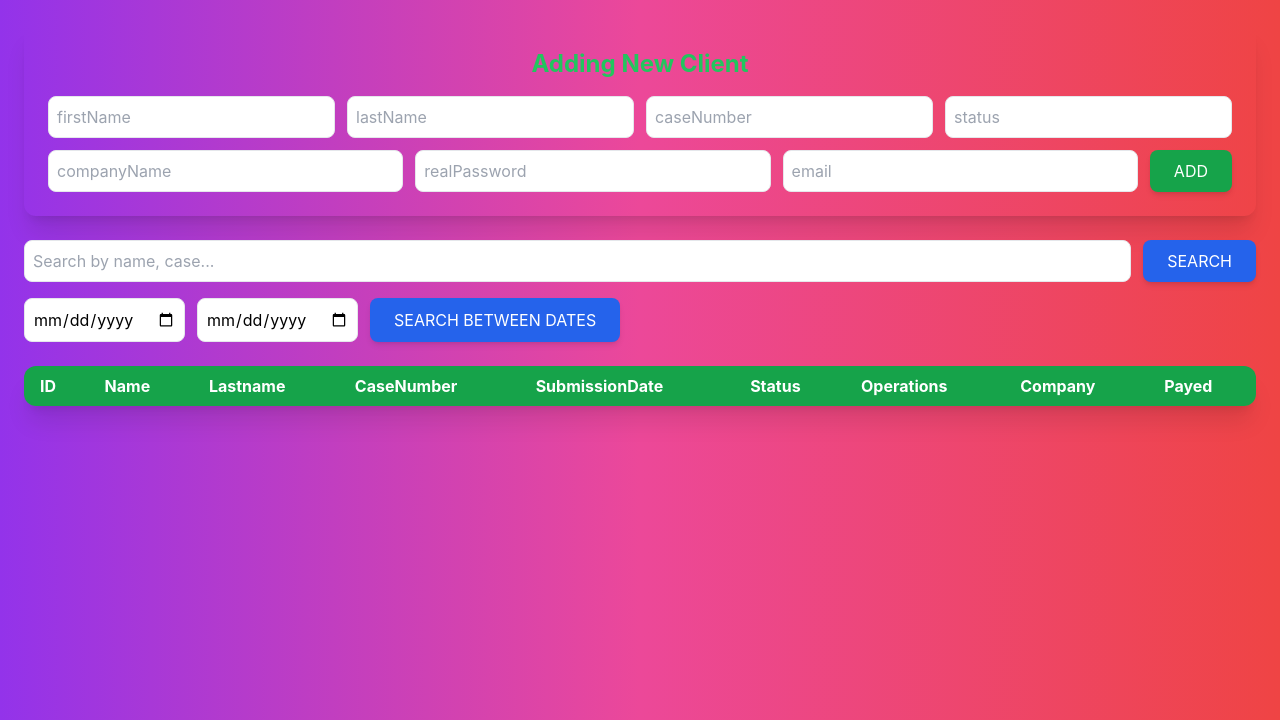
ActualClientsList - handleAdd › adds client, sends today's submissionDate, and resets form on success
The width and height of the screenshot is (1280, 720).
In the field with placeholder "firstName": coordinates (192, 117) 48,96 -> 335,138, type "John"
In the field with placeholder "lastName": coordinates (490, 117) 347,96 -> 634,138, type "Marston"
In the field with placeholder "caseNumber": coordinates (790, 117) 646,96 -> 933,138, type "2356/2025"
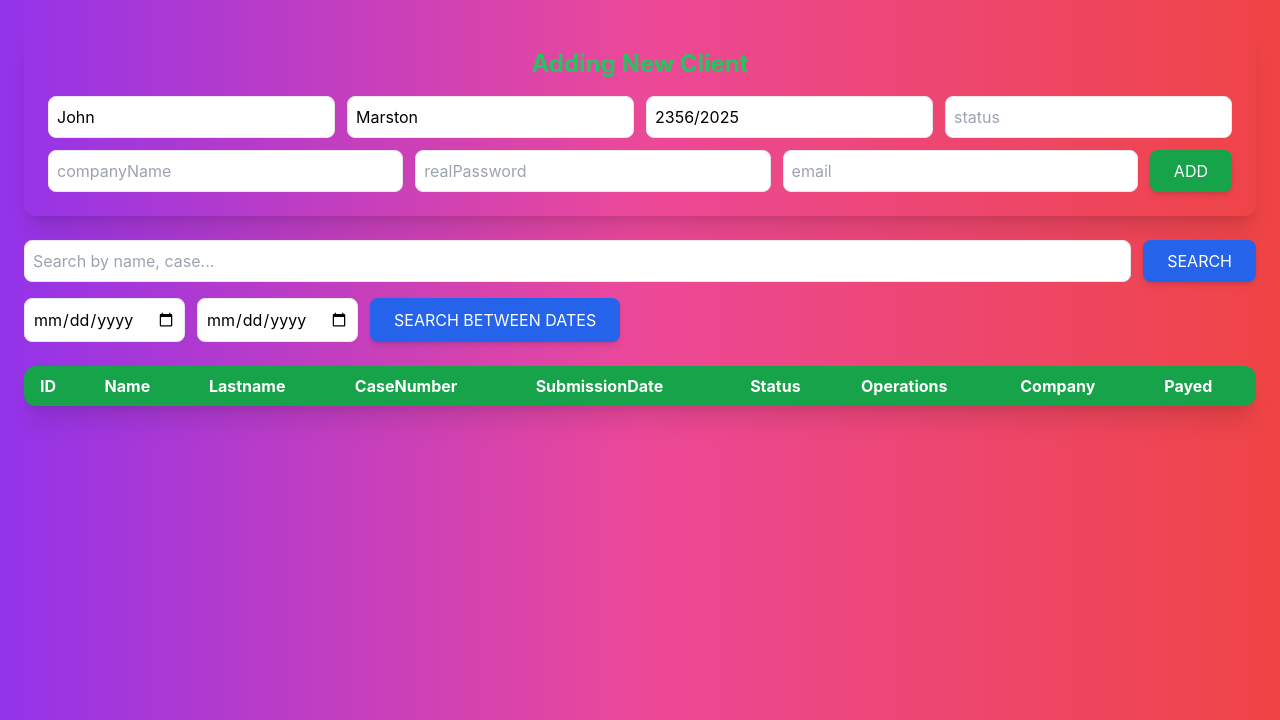
In the field with placeholder "status": coordinates (1088, 117) 945,96 -> 1232,138, type "Processing"
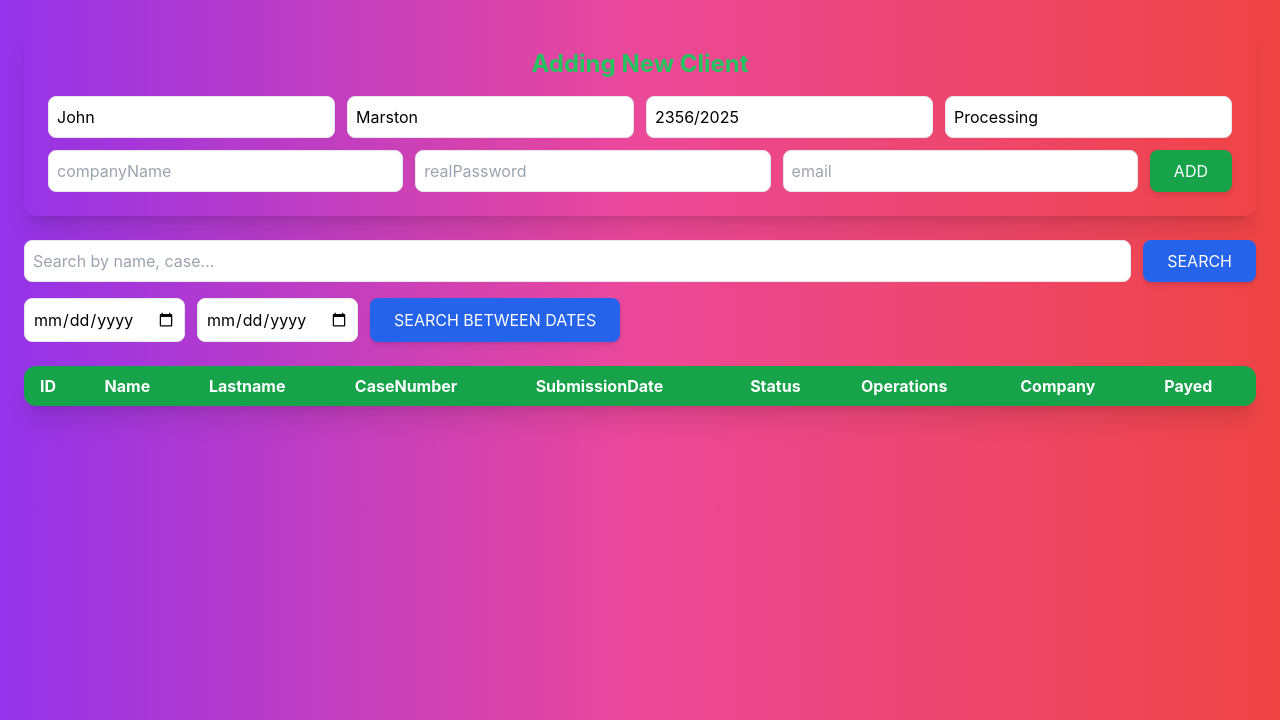
In the field with placeholder "companyName": coordinates (226, 171) 48,150 -> 403,192, type "Girteka"
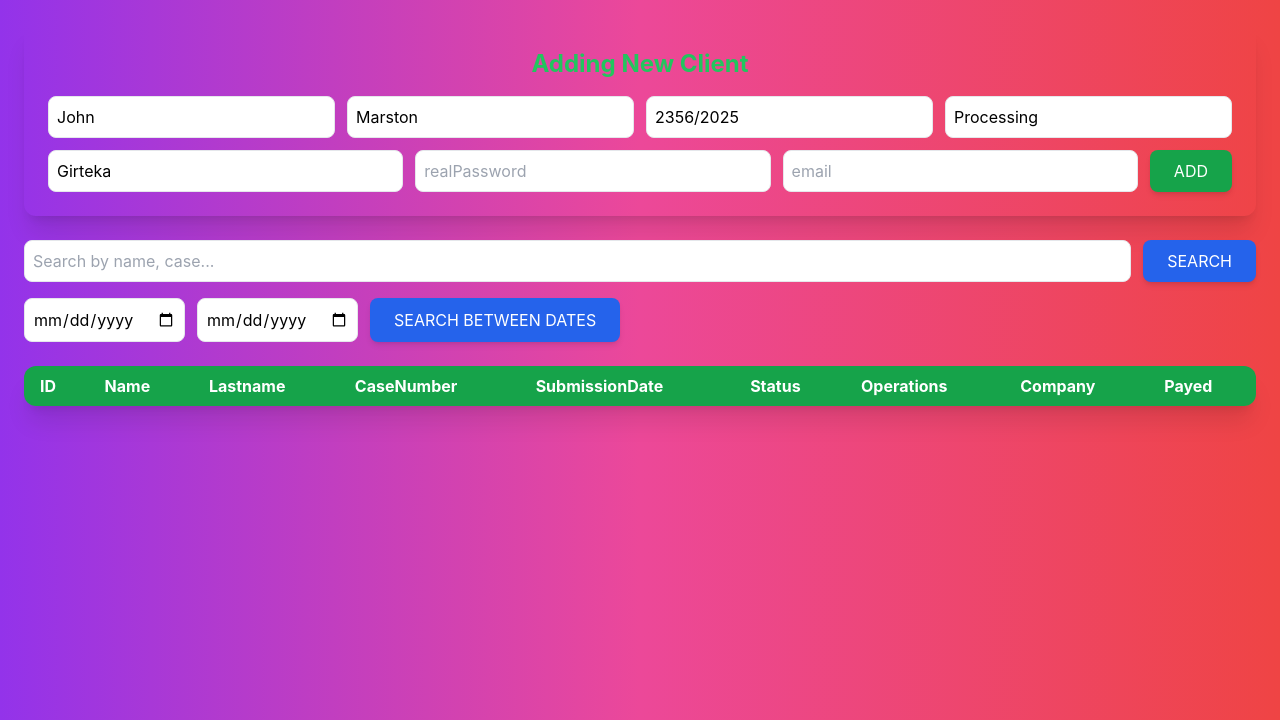
In the field with placeholder "realPassword": coordinates (593, 171) 415,150 -> 771,192, type "secret123"
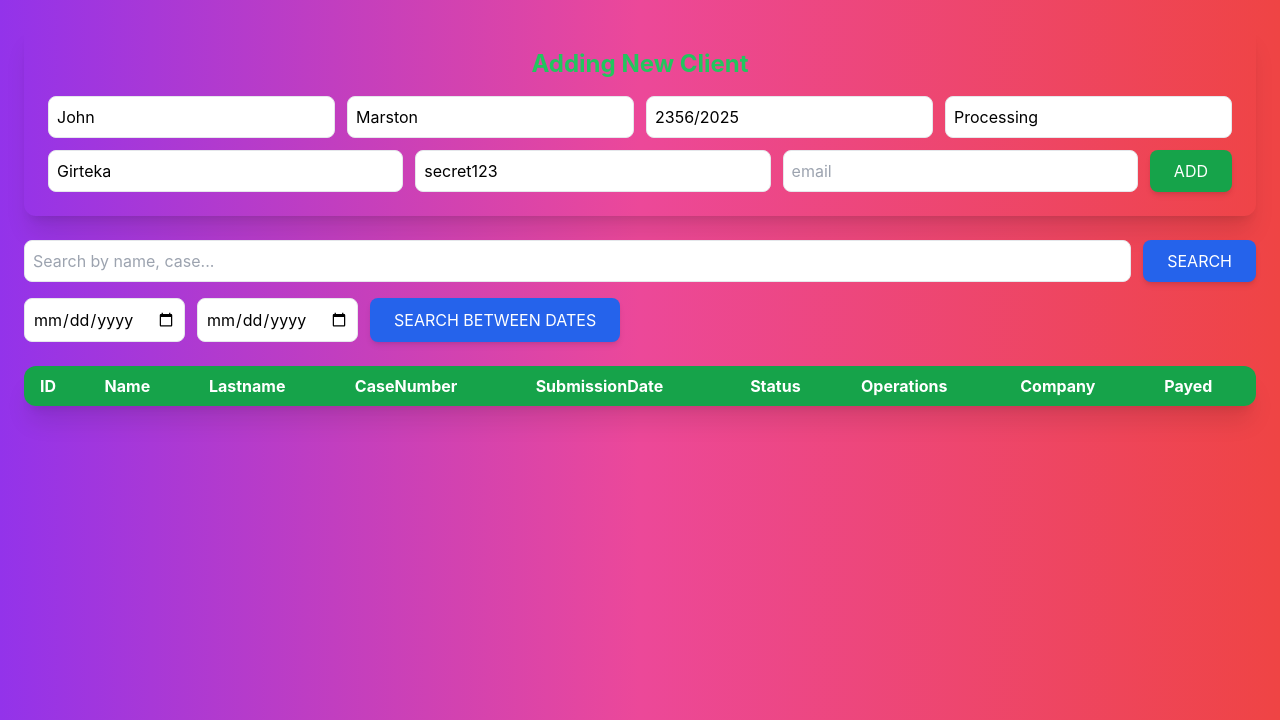
In the field with placeholder "email": coordinates (960, 171) 783,150 -> 1138,192, type "john@example.com"
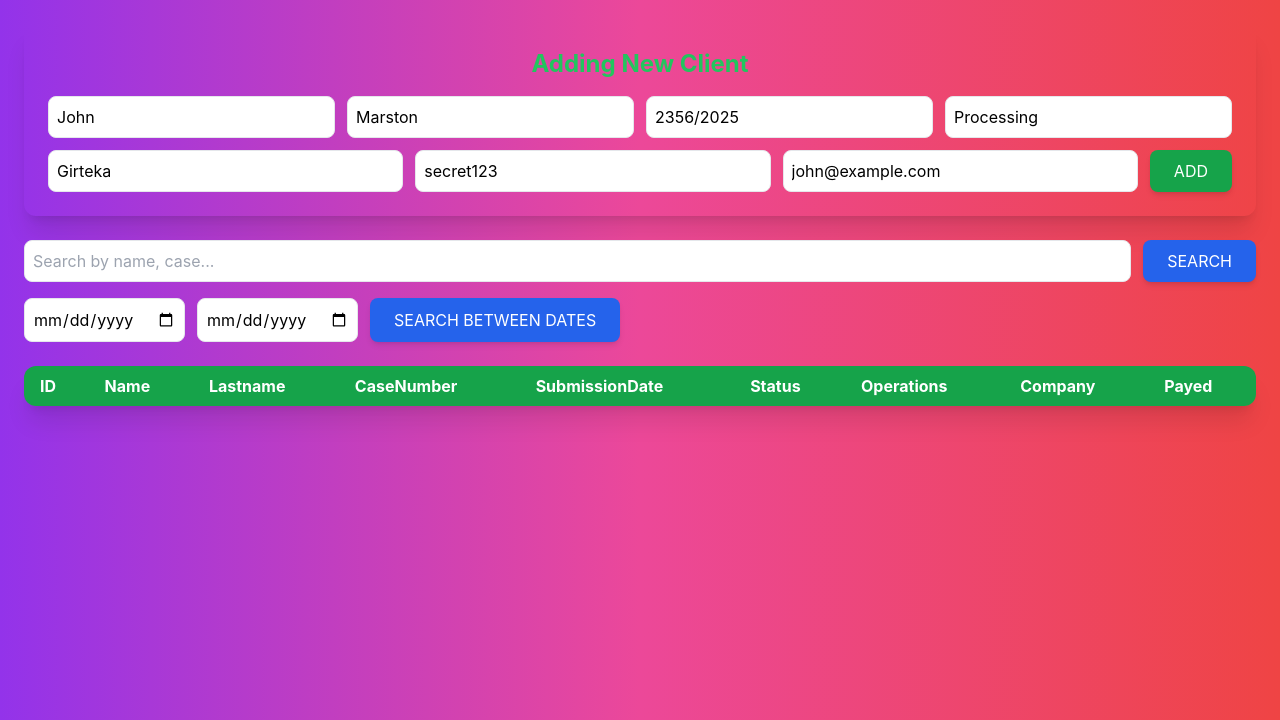
Click the button "ADD": coordinates (1191, 171) 1150,150 -> 1232,192
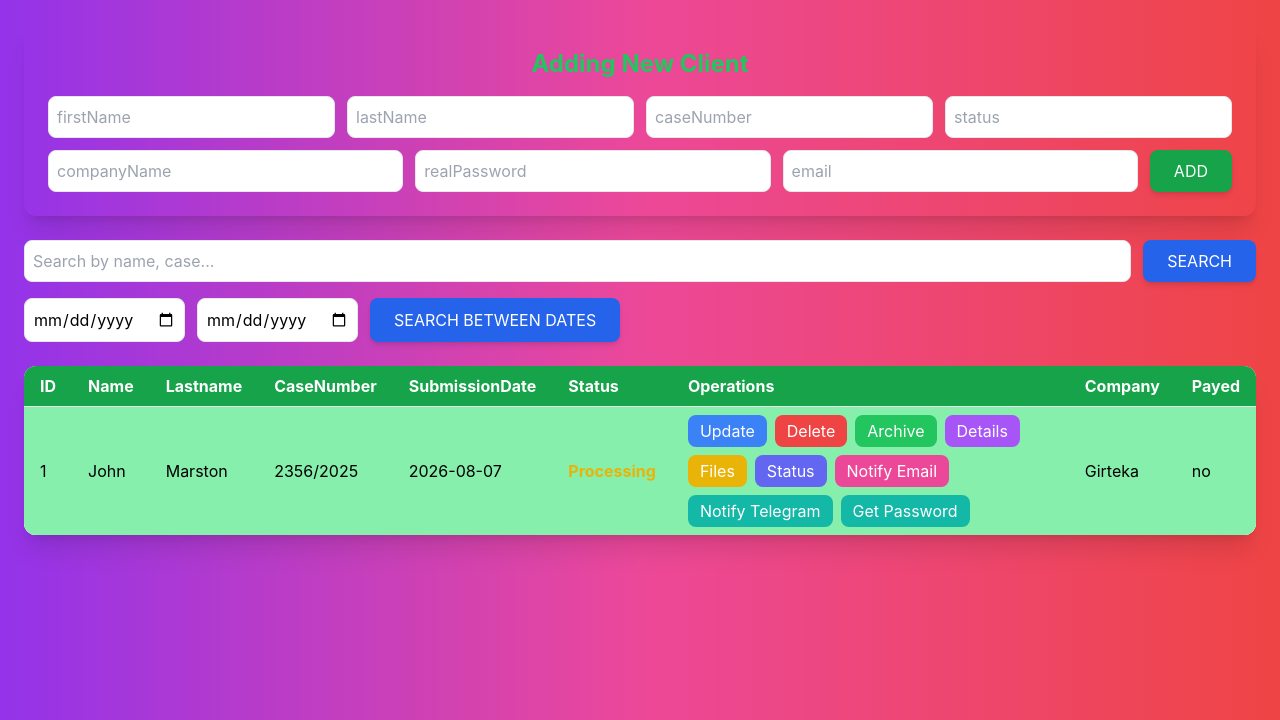
Now the text "John" is shown, box 72,406 -> 150,535
Now the text "Marston" is shown, box 150,406 -> 258,535
Now the field with placeholder "firstName" is empty, box 48,96 -> 335,138
